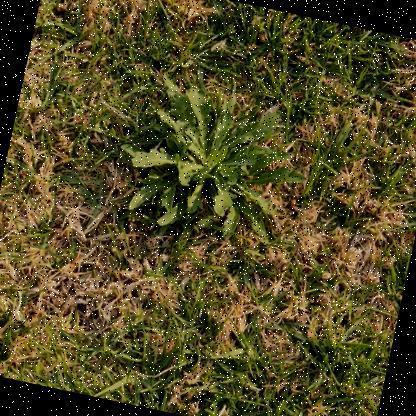Weeds: (105, 67, 322, 255)
